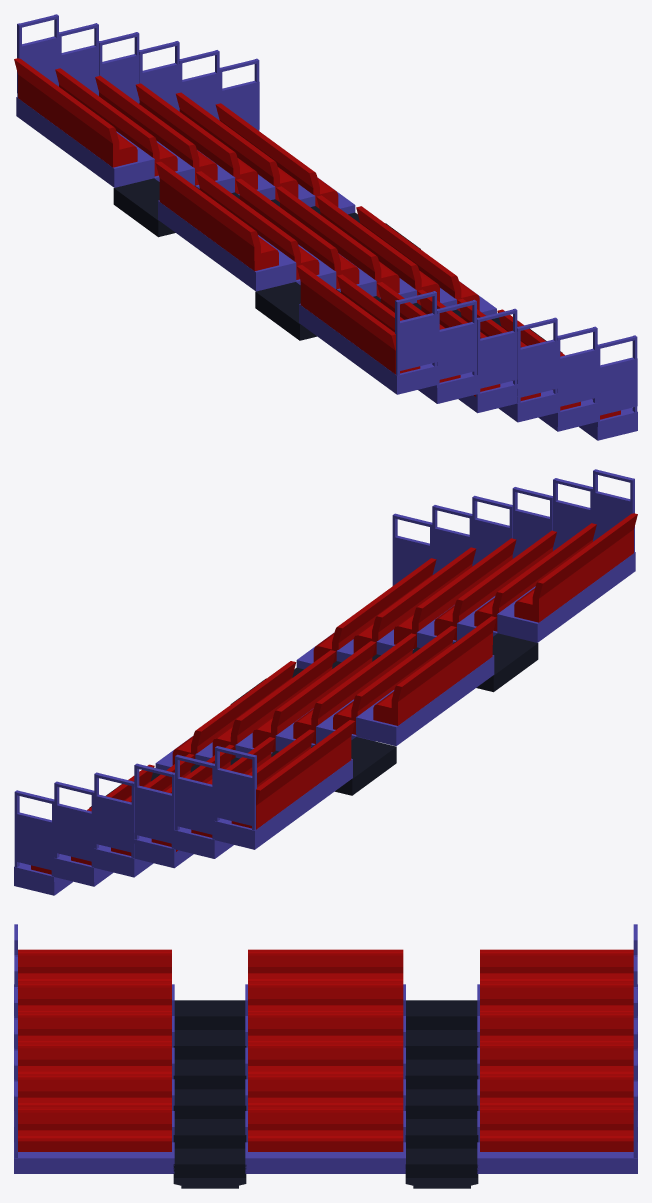
The model's file is bench.fbx.
3 renders of one model, top to bottom at view 1: azimuth 30°, elevation 25°; view 2: azimuth 150°, elevation 25°; view 3: azimuth 270°, elevation 25°, orthographic. The views are drawn at different scales.
Parts seen in each view (by area): view 1: seat.002, seat.001, fencing.001, fencing, seat.003, base, base.001, base.002, stair, stair.001; view 2: seat.003, seat.001, fencing, fencing.001, base.001, seat.002, base, base.002, stair.001, stair; view 3: seat.001, seat.002, seat.003, stair.001, stair, base.002, base.001, base, fencing, fencing.001.
Part boxes in pixels (bbox=[...]): seat.002: bbox=[14, 58, 338, 208]; seat.001: bbox=[155, 161, 479, 311]; fencing.001: bbox=[395, 291, 637, 423]; fencing: bbox=[17, 14, 259, 130]; seat.003: bbox=[296, 265, 620, 419]; base: bbox=[299, 303, 637, 440]; base.001: bbox=[16, 97, 355, 214]; base.002: bbox=[158, 200, 496, 315]; stair: bbox=[113, 178, 420, 249]; stair.001: bbox=[255, 282, 562, 352]; seat.003: bbox=[313, 513, 637, 663]; seat.001: bbox=[172, 616, 496, 766]; fencing: bbox=[14, 746, 256, 876]; fencing.001: bbox=[392, 469, 634, 585]; base.001: bbox=[14, 758, 352, 895]; seat.002: bbox=[31, 720, 355, 874]; base: bbox=[296, 552, 635, 669]; base.002: bbox=[155, 655, 494, 770]; stair.001: bbox=[230, 633, 538, 704]; stair: bbox=[89, 737, 396, 807]; seat.001: bbox=[248, 949, 403, 1151]; seat.002: bbox=[480, 949, 633, 1151]; seat.003: bbox=[18, 949, 171, 1151]; stair.001: bbox=[173, 1000, 246, 1188]; stair: bbox=[405, 1000, 478, 1188]; base.002: bbox=[245, 984, 405, 1173]; base.001: bbox=[477, 984, 637, 1173]; base: bbox=[14, 984, 174, 1173]; fencing: bbox=[633, 924, 637, 1157]; fencing.001: bbox=[14, 924, 17, 1157].
Bounding box in the file's own units: 272 × 184 × 660.
